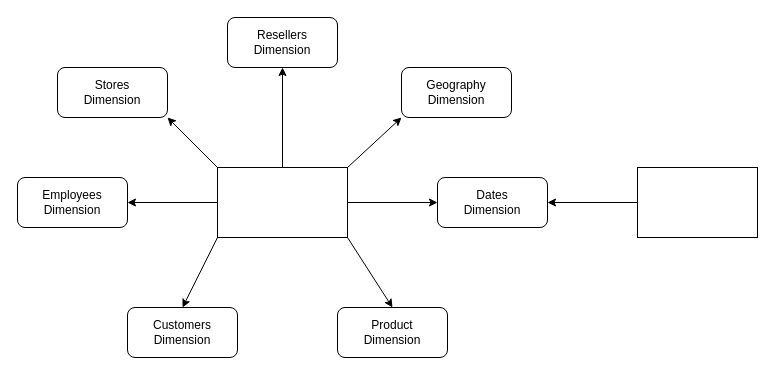
This 775x375 diagram has some shape labels left out. The centre of each missing label's shape, as x and y in pixels:
"Sales Orders Fact Table" goes at point 282,202.
"Targets Fact Table" goes at point 697,202.
